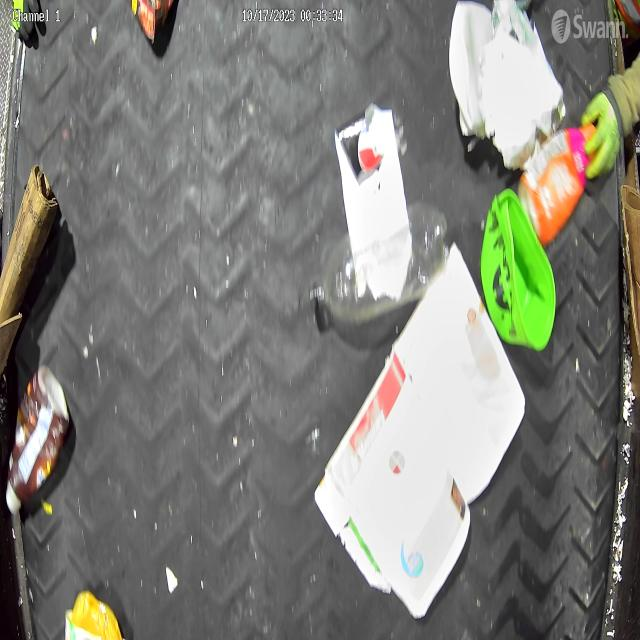non_white_jug: (482, 191, 557, 352), (6, 364, 68, 515), (518, 125, 596, 242)
plastic_bottle: (310, 213, 452, 330)
